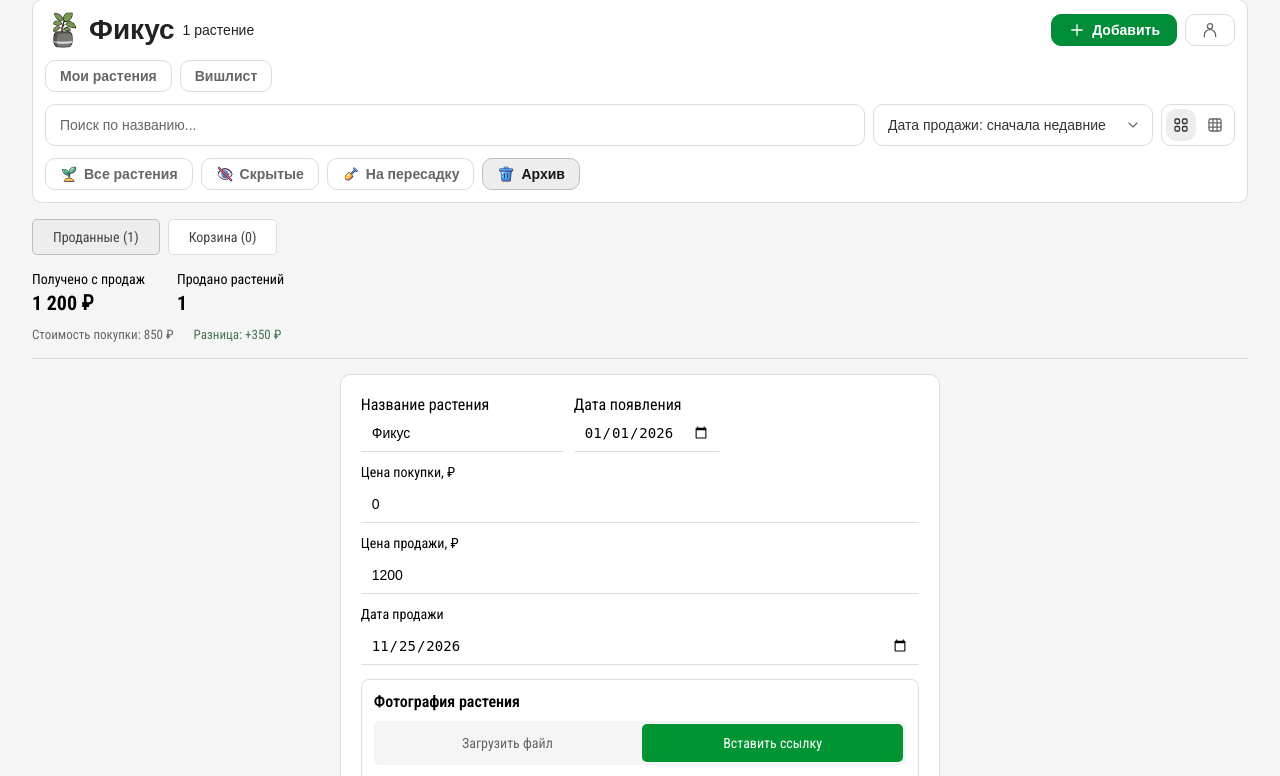
Test case: edits sale and purchase data, moves to trash and restores to sold with the same data
Earlier steps of the test are not shown.
Later steps or results of the test are not shown.
Step 1. Replace the text in the number field labelled "Цена продажи, ₽" with "0" → (640, 575), box [361,556,919,594]
Step 2. Type "2026-11-01" into the date field labelled "Дата продажи" → (640, 646), box [361,627,919,665]
Step 3. Click the button "Загрузить файл" → (507, 743), box [377,724,638,762]
(page scrolled)
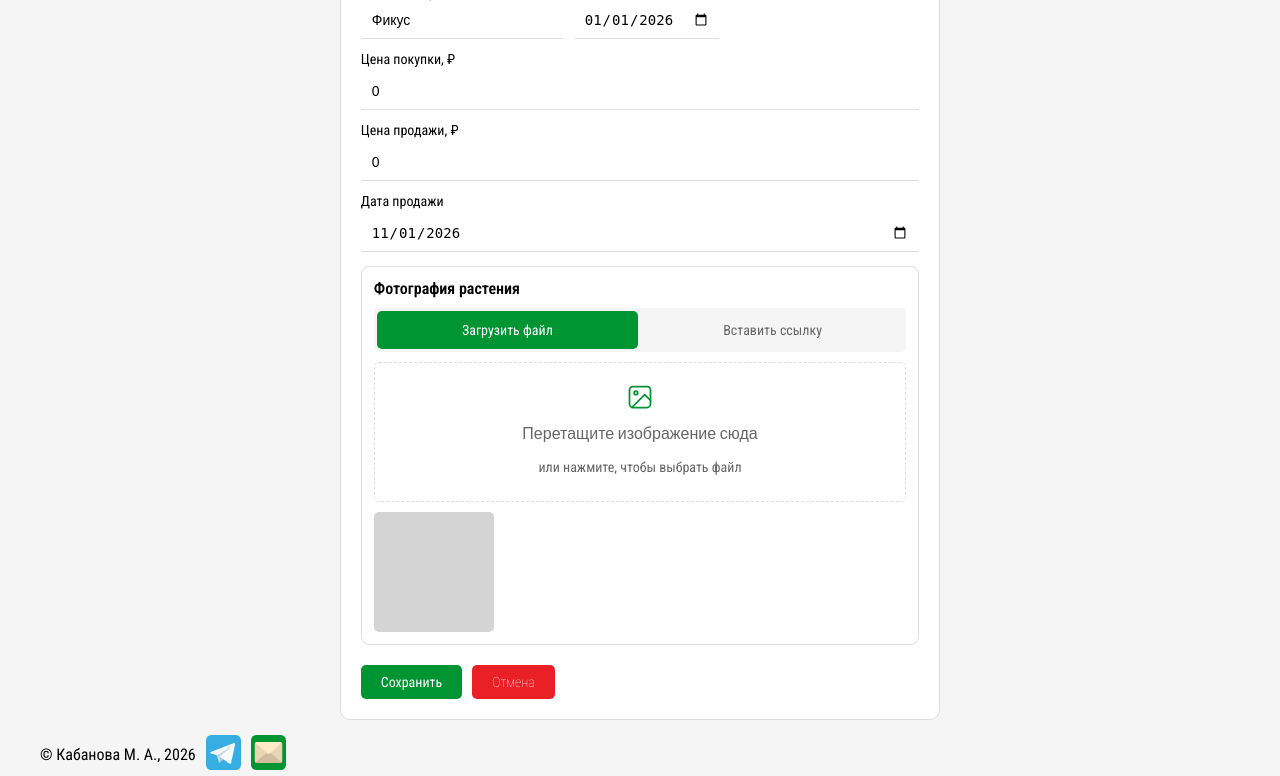
Step 4. Click the button "Сохранить" → (412, 682), box [361,665,462,699]
(page scrolled)
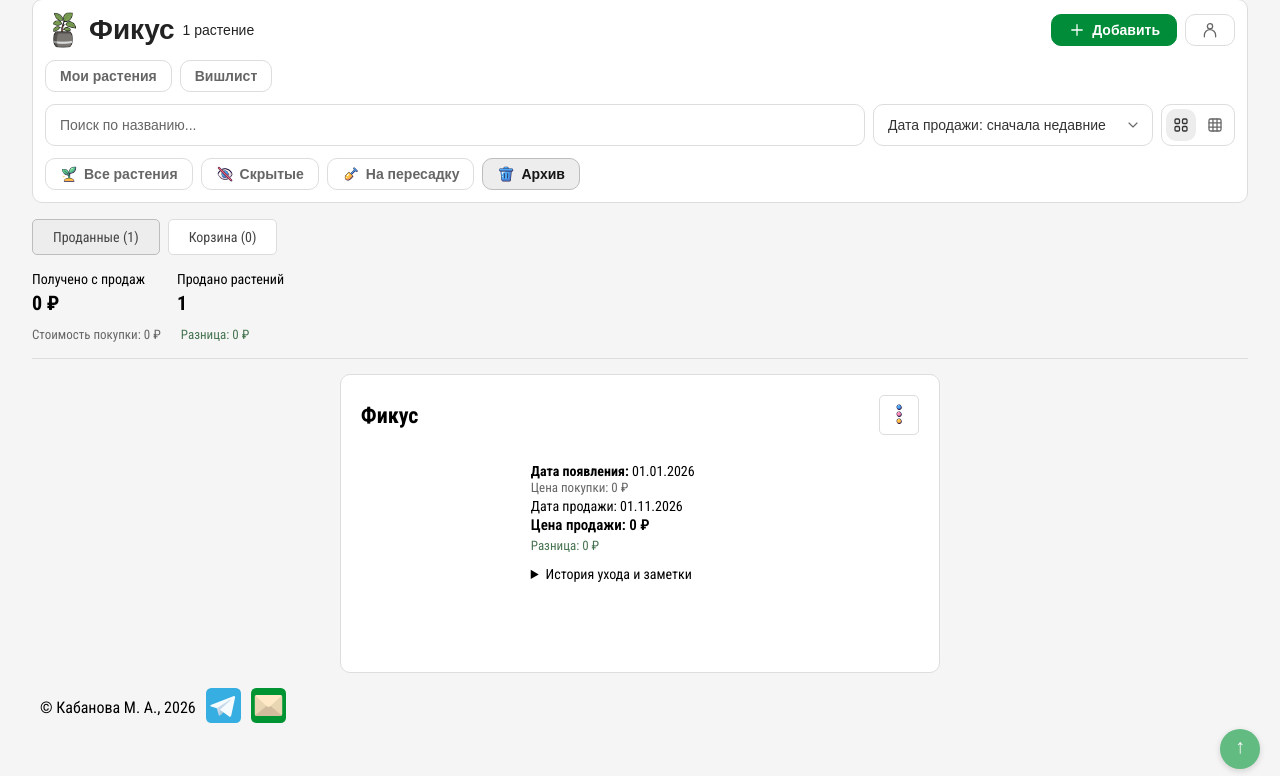
Step 5. Click the button named "menu" → (899, 415), box [879,395,919,435]
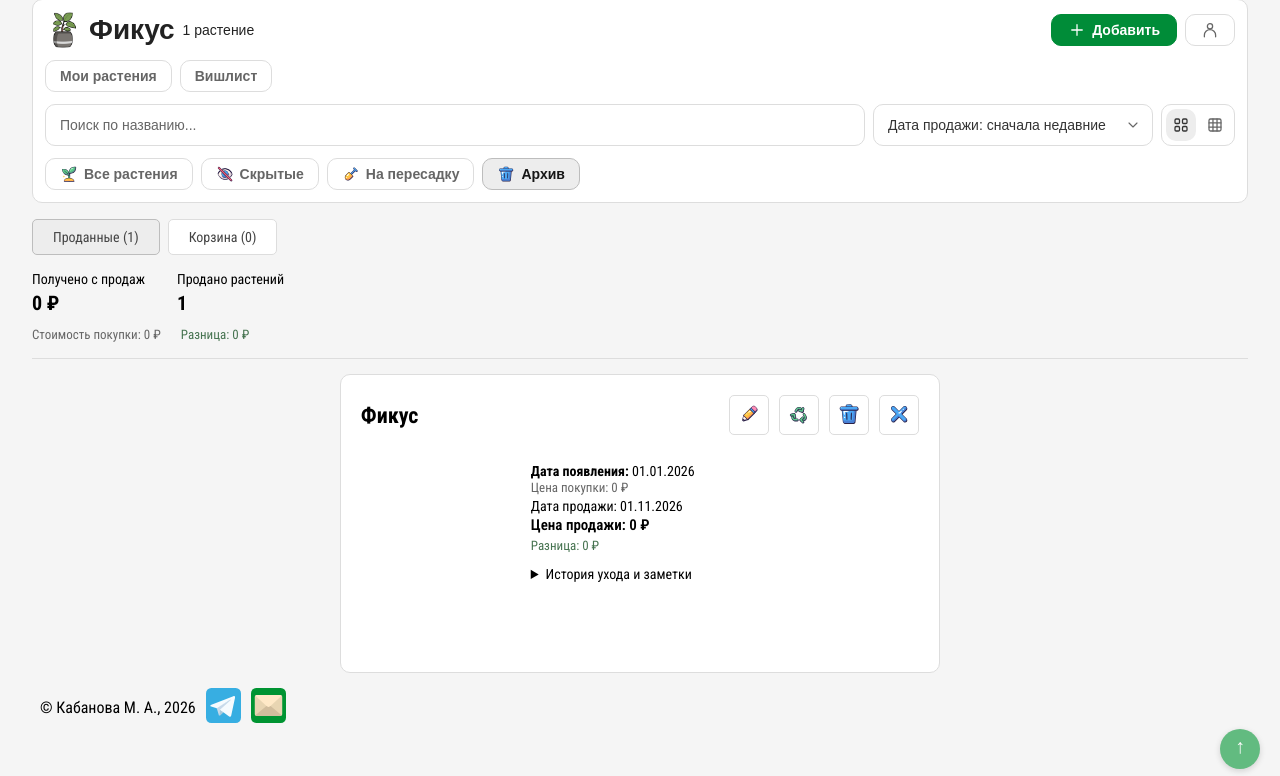
Step 6. Click the button named "Удалить" → (849, 415), box [829,395,869,435]
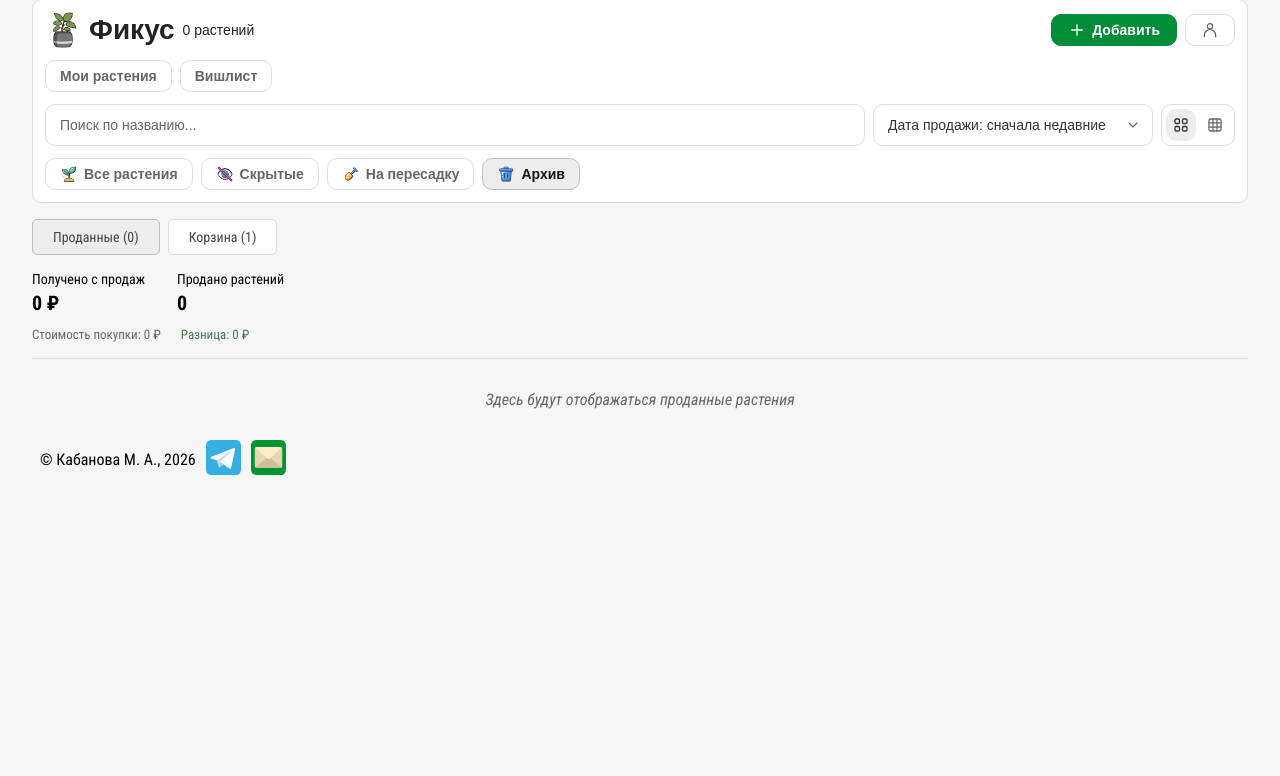
Expected: the button "Проданные (0)" is shown, [32,219,160,255]
Step 7. Click the button "Корзина (1)" → (223, 237), box [168,219,278,255]
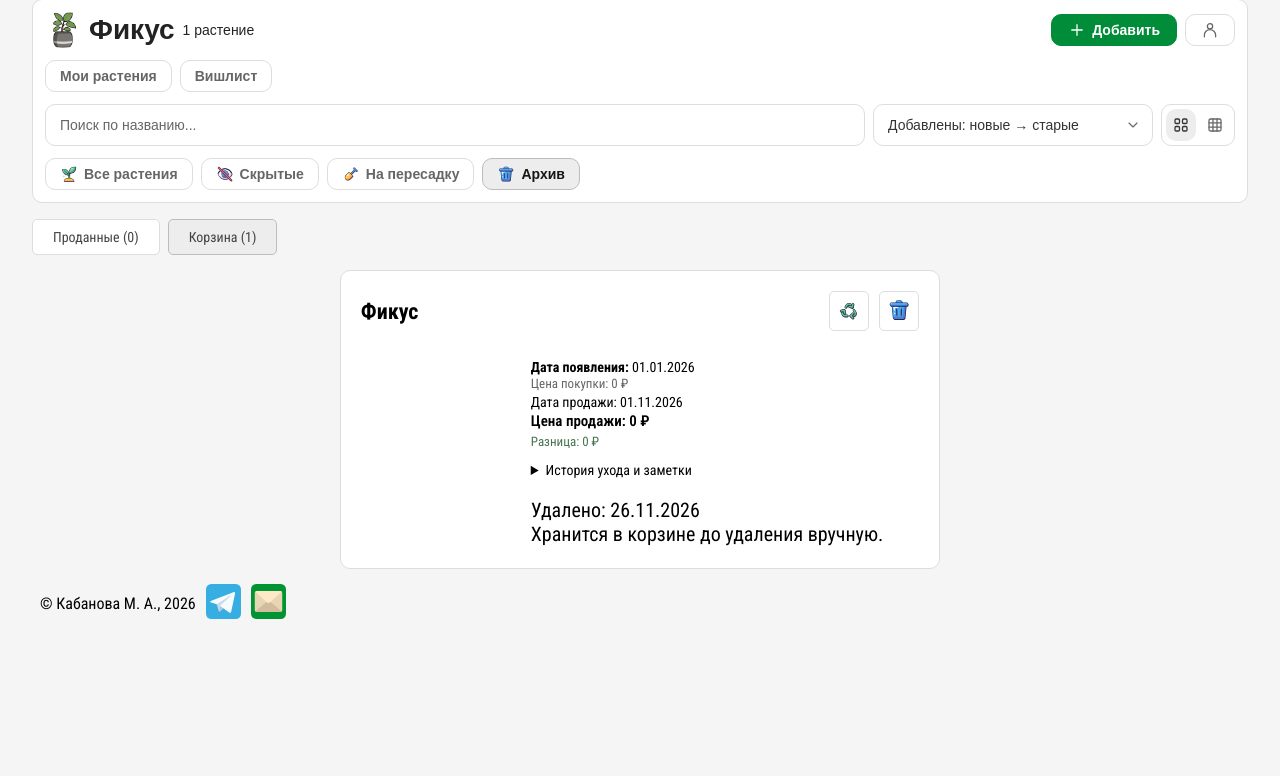
Step 8. Click the button named "Восстановить растение" → (849, 311), box [829,291,869,331]
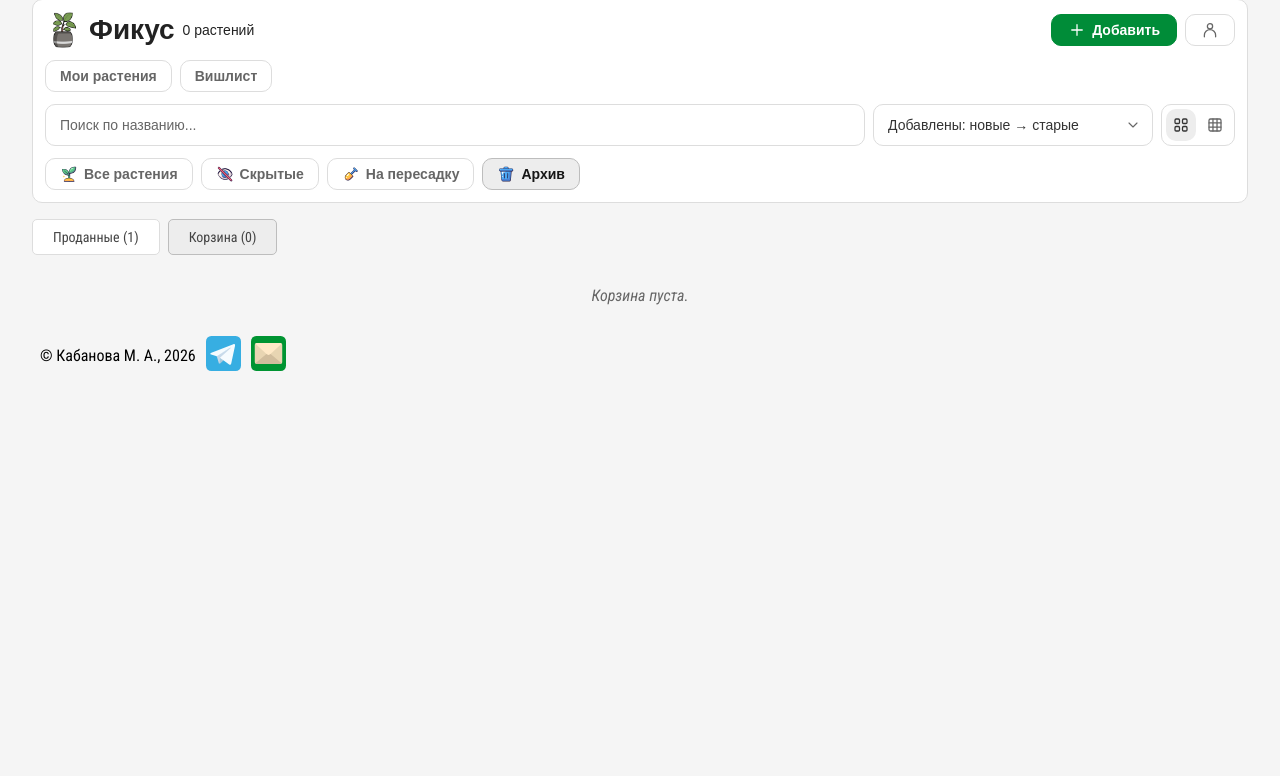
Expected: the button "Проданные (1)" is shown, [32,219,160,255]
